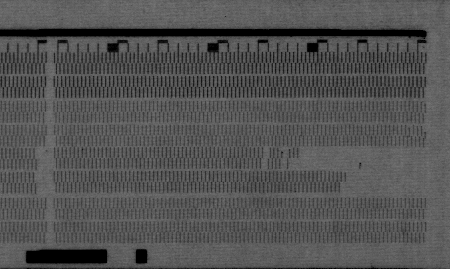Broken hole: (337, 146, 428, 197), (290, 148, 429, 172), (32, 148, 50, 197), (277, 148, 290, 170), (260, 146, 270, 169)
